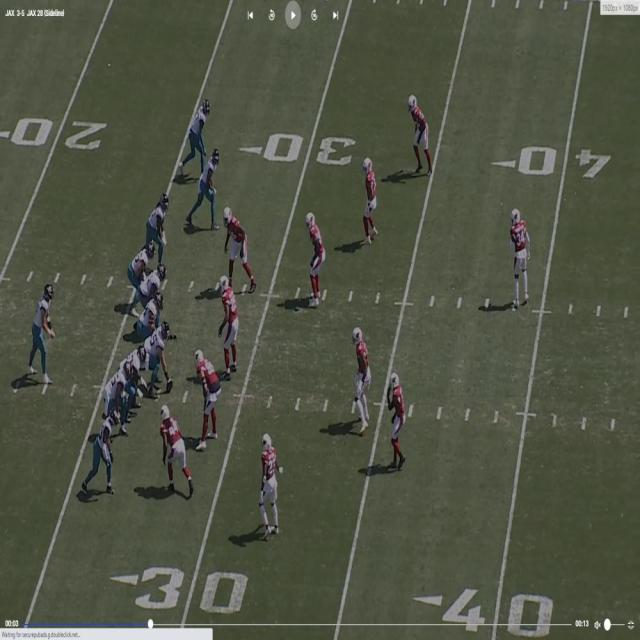center: (147, 324, 169, 386)
db: (261, 432, 279, 539), (409, 94, 434, 165), (390, 370, 407, 458), (510, 208, 526, 292), (365, 160, 380, 245)
lb: (221, 276, 244, 378), (307, 211, 325, 302), (351, 327, 368, 423)
qb: (32, 282, 54, 388)
skill: (182, 99, 212, 164), (96, 412, 120, 484), (197, 149, 218, 231), (127, 242, 157, 282), (147, 191, 170, 236)
